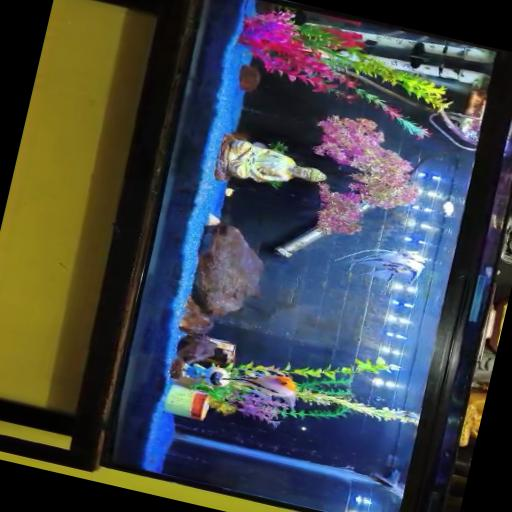Fish: (334, 248, 424, 284), (222, 374, 295, 407), (369, 468, 404, 498)
